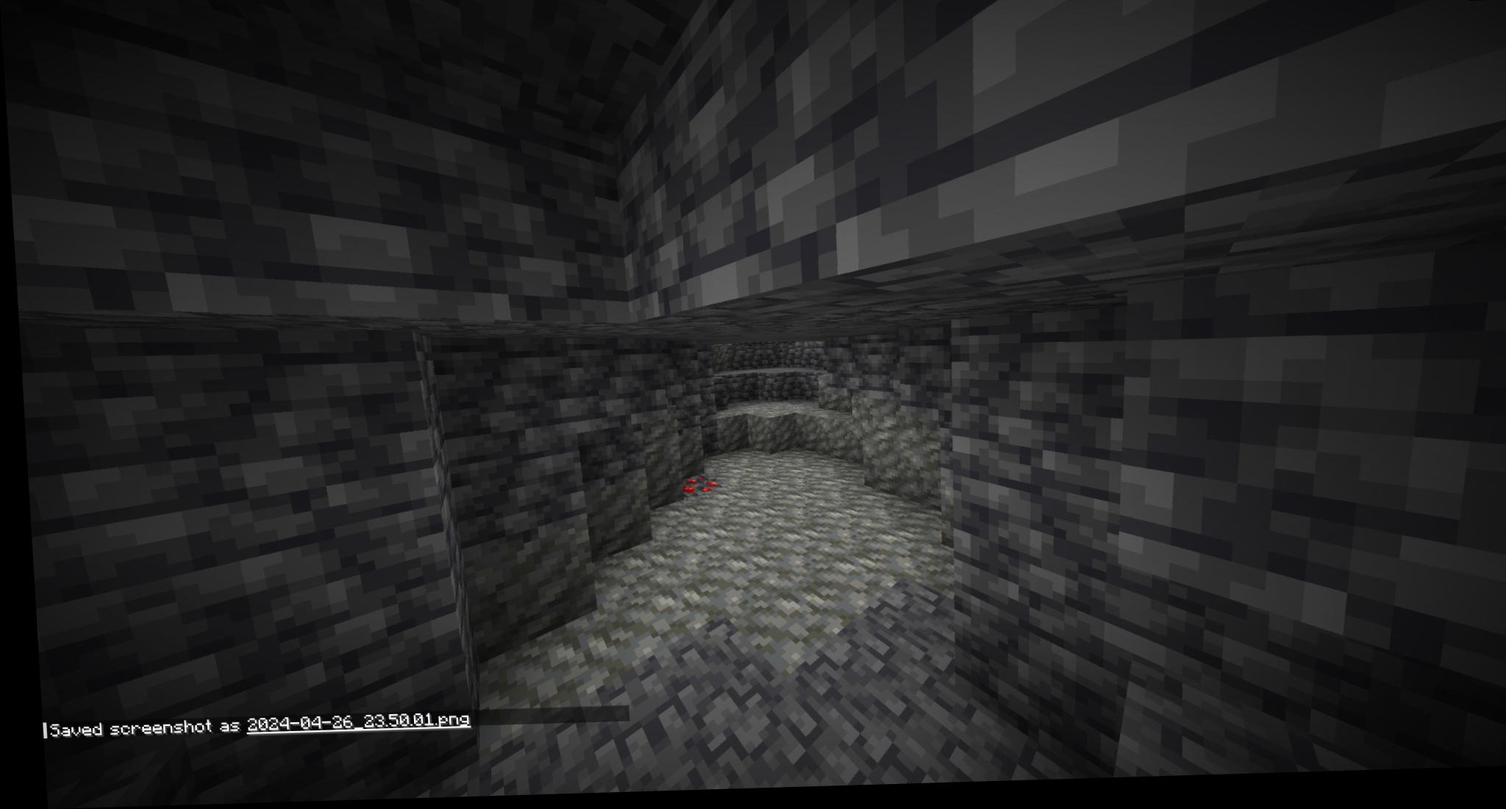redstone ore: (664, 466, 712, 503)
